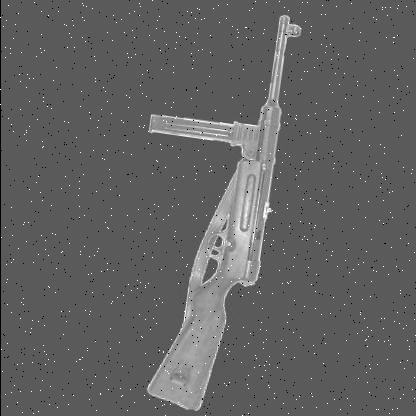rifle: (102, 0, 323, 416)
